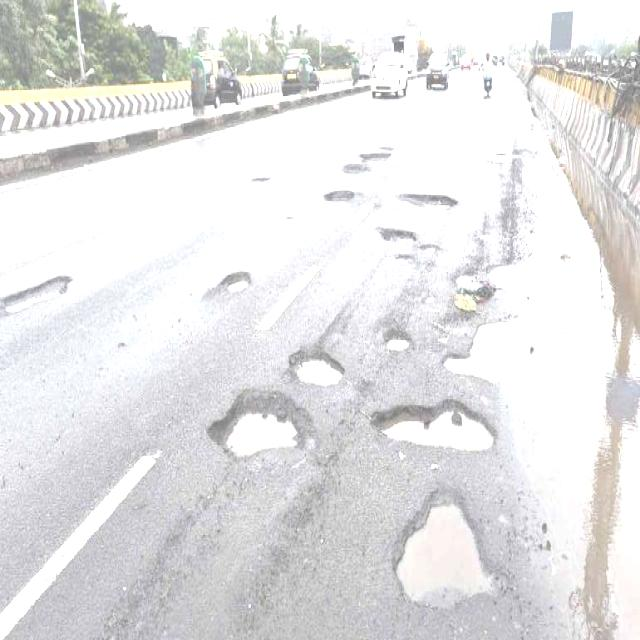Pothole: (200, 267, 639, 640), (328, 144, 459, 273), (0, 268, 75, 324)
